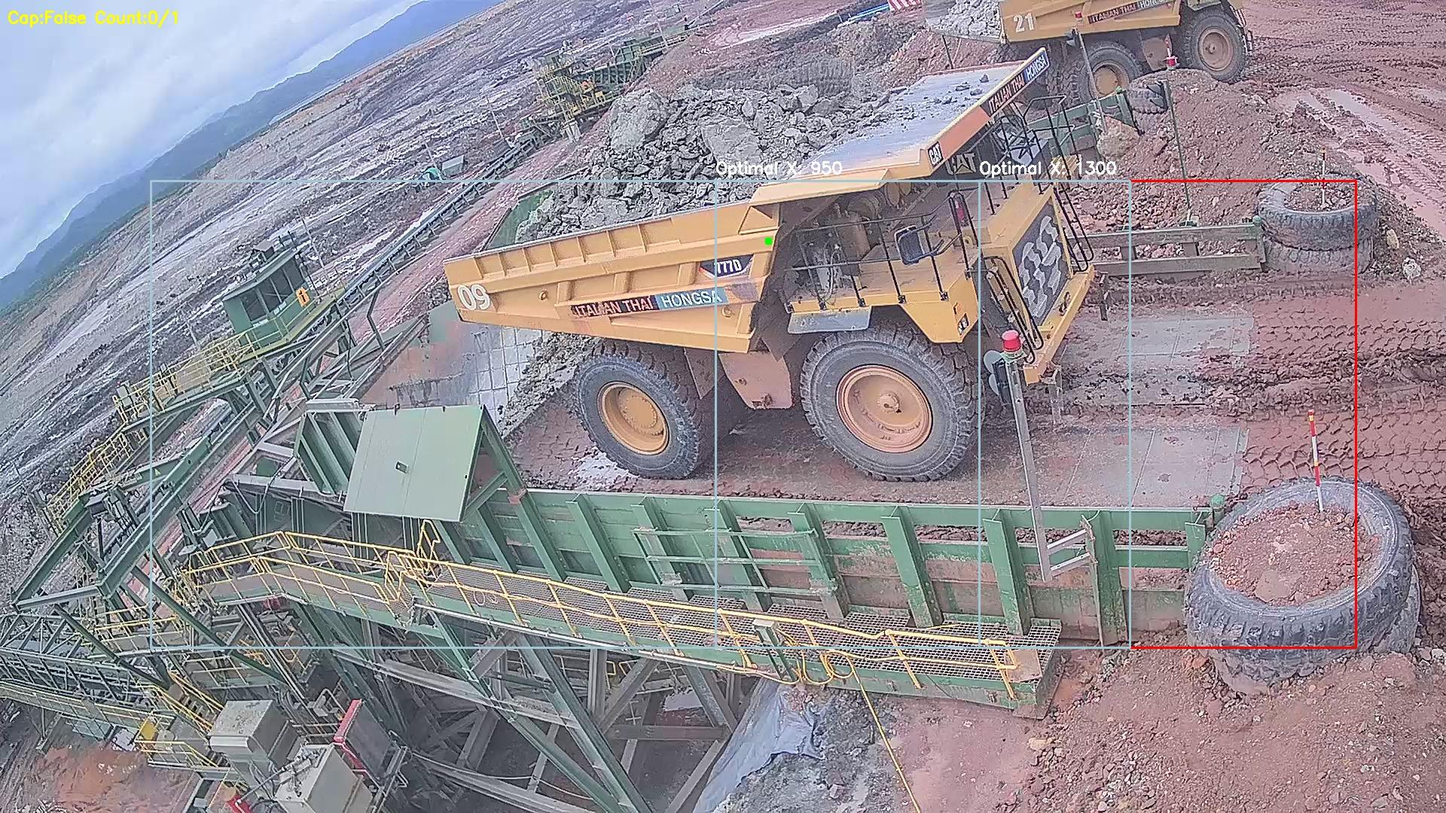company: (558, 288, 734, 322)
full_load: (561, 76, 818, 224)
mining_truck: (438, 48, 1120, 468)
tail_number: (455, 277, 497, 315)
truck_size: (694, 252, 761, 277)
